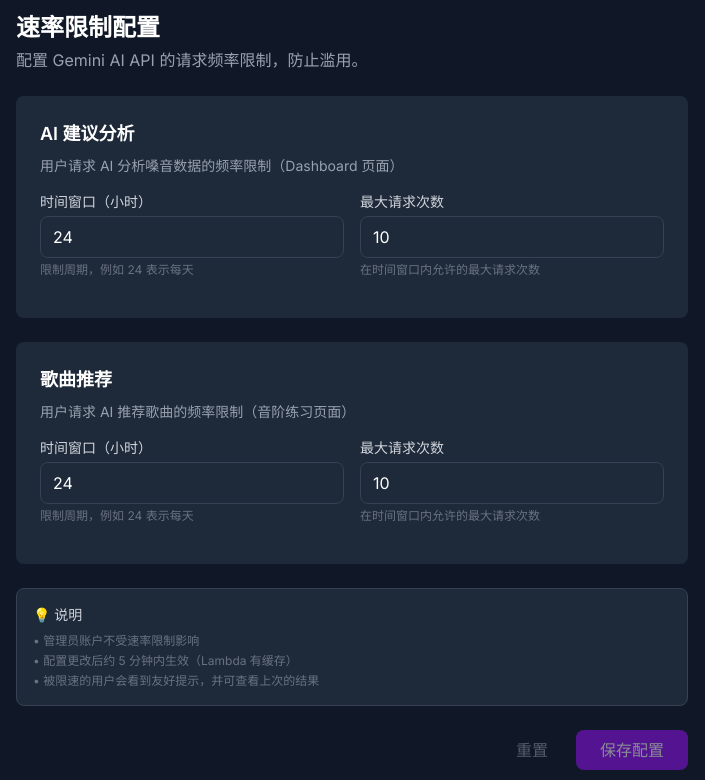
Test case: RateLimitConfigPage 组件测试 › 交互功能 › 非法最大次数  显示字段错误且不写配置
Clear the number field labelled "最大请求次数" below "用户请求 AI 分析嗓音数据的频率限制（Dashboard 页面）" at (512, 237), box [360, 216, 664, 258]
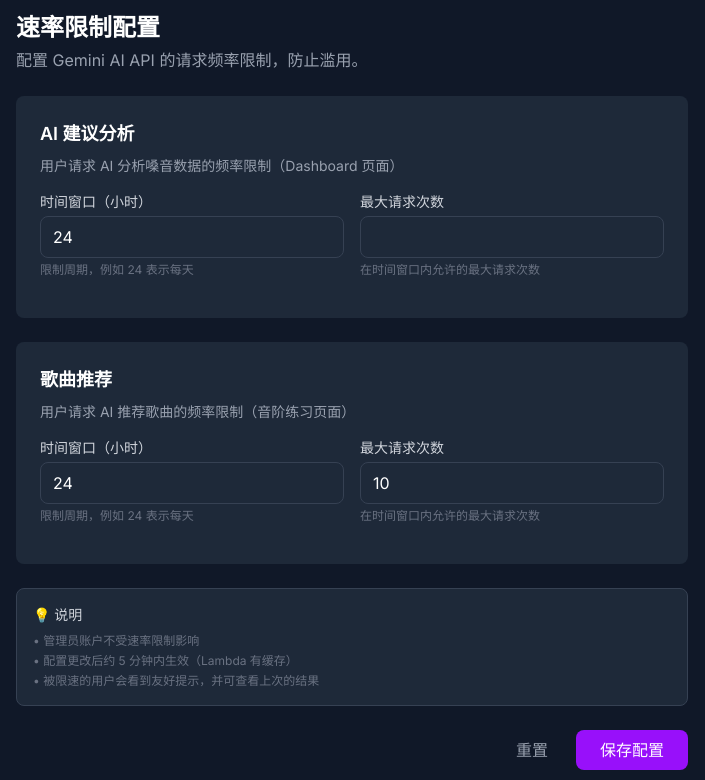
Click the button "保存配置" at (632, 750), box [576, 730, 688, 770]
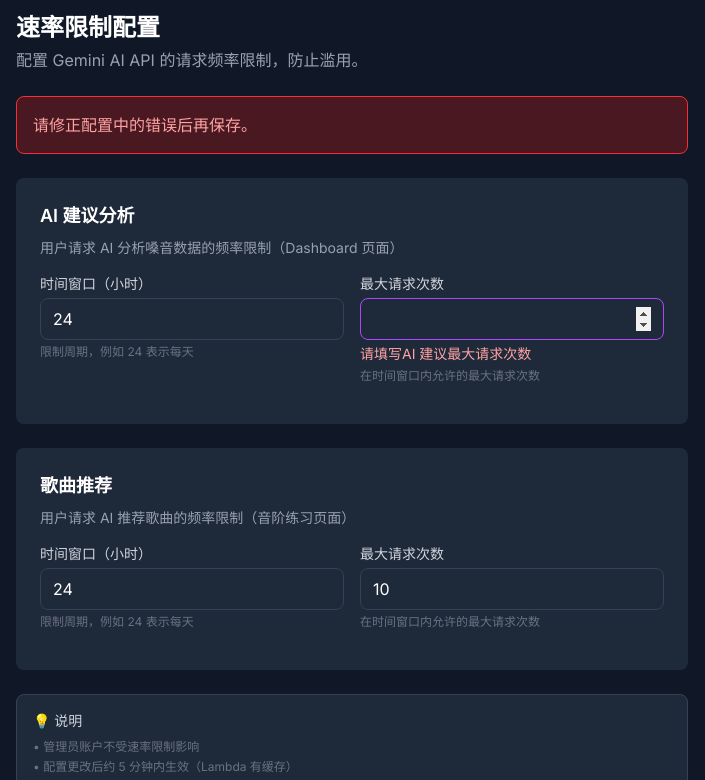
Result: the text "请填写AI 建议最大请求次数" is shown at [360, 345, 531, 362]
